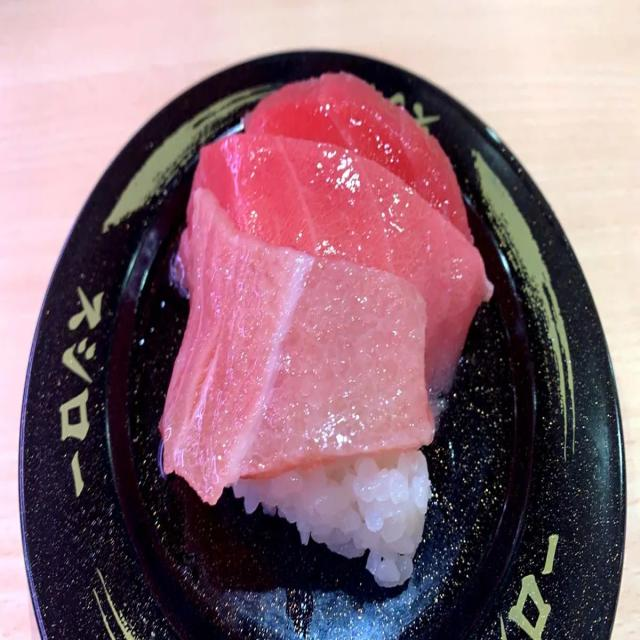janback: (65, 58, 594, 640)
